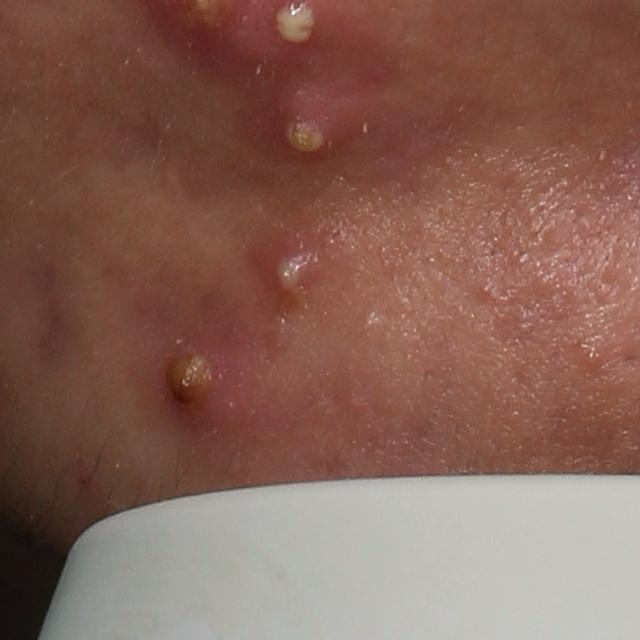comedo: (572, 340, 603, 371)
pustule: (248, 88, 372, 160), (148, 331, 239, 420), (257, 230, 328, 303)
